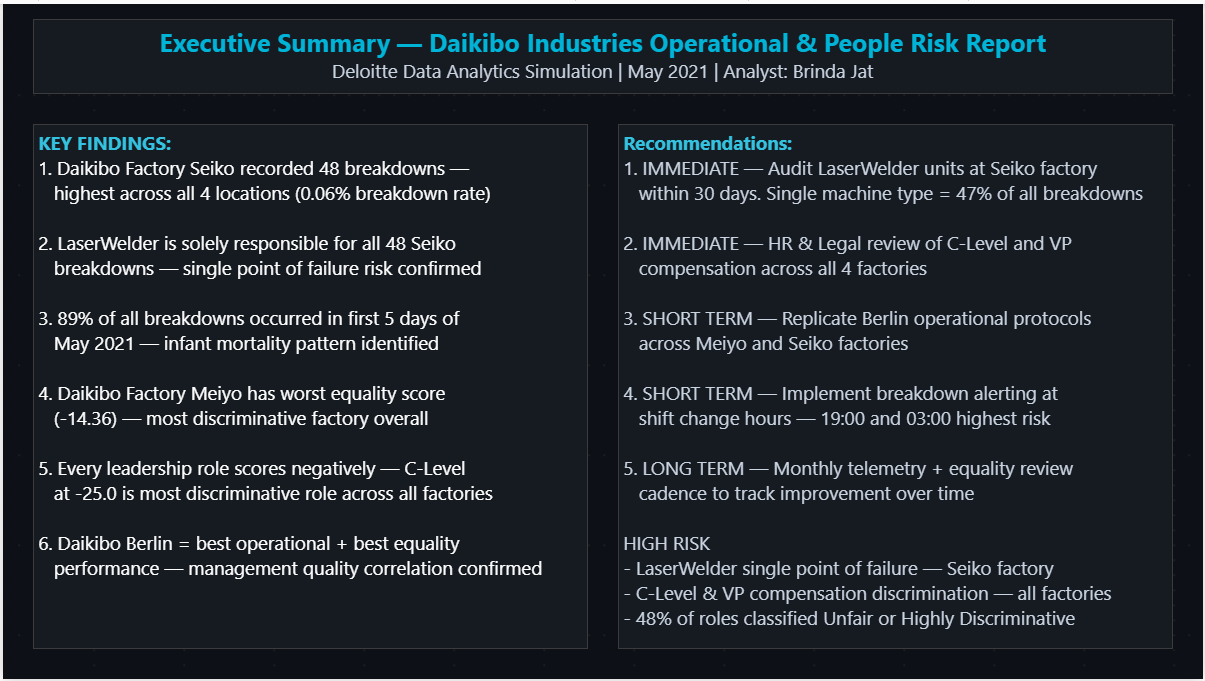

Layout of this report page (visuals, bound fields, positions):
{"tool":"powerbi","page":{"name":"Executive Summary","canvas":[1280,720],"ordinal":3},"visuals":[{"type":"textbox","box":[32,16,1216,80],"z":0},{"type":"textbox","box":[32,128,592,560],"z":1},{"type":"textbox","box":[656,128,592,560],"z":2}]}

Visuals, with their boxes in screenshot pixels (x1, y1, x2, y2), scaled from the page's 1280x720 canvas onto the 1205x681 screenshot:
textbox: [x1=30, y1=15, x2=1175, y2=91]
textbox: [x1=30, y1=121, x2=587, y2=651]
textbox: [x1=618, y1=121, x2=1175, y2=651]
